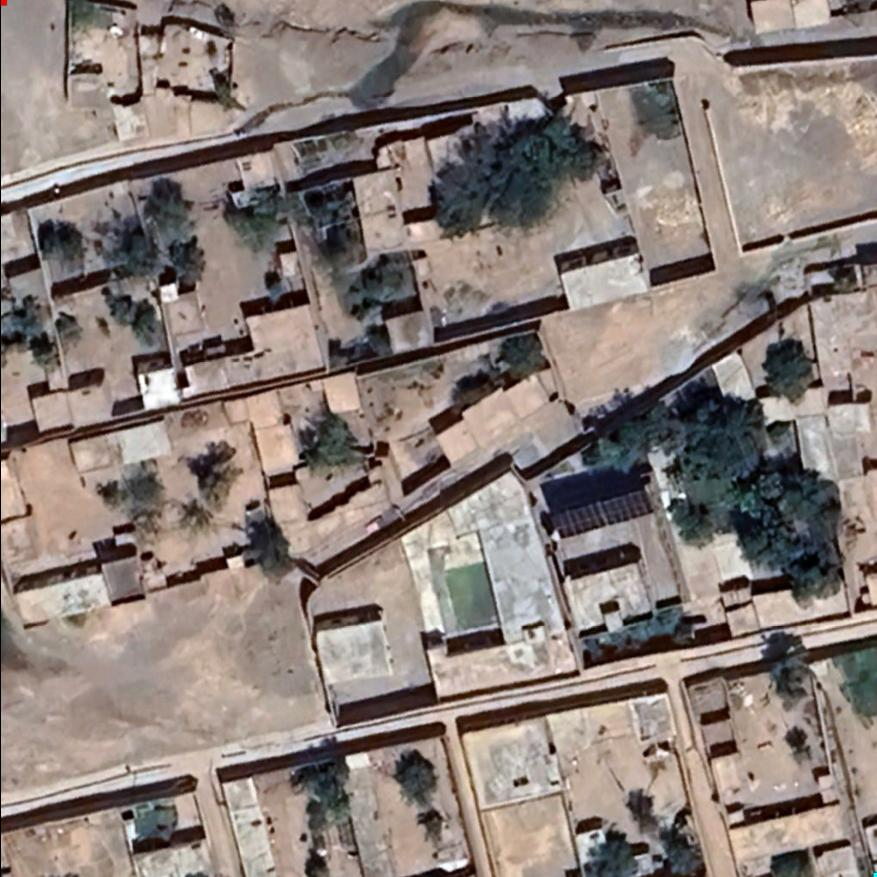Solarpanel: (530, 479, 660, 548)
